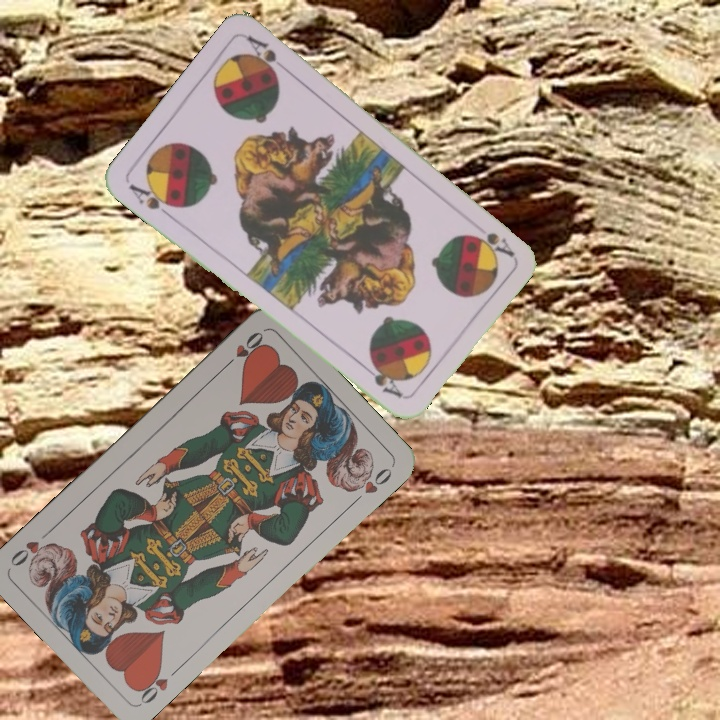HO: (131, 662, 183, 707), (219, 327, 267, 372)
SA: (124, 179, 181, 221), (475, 228, 517, 260)
